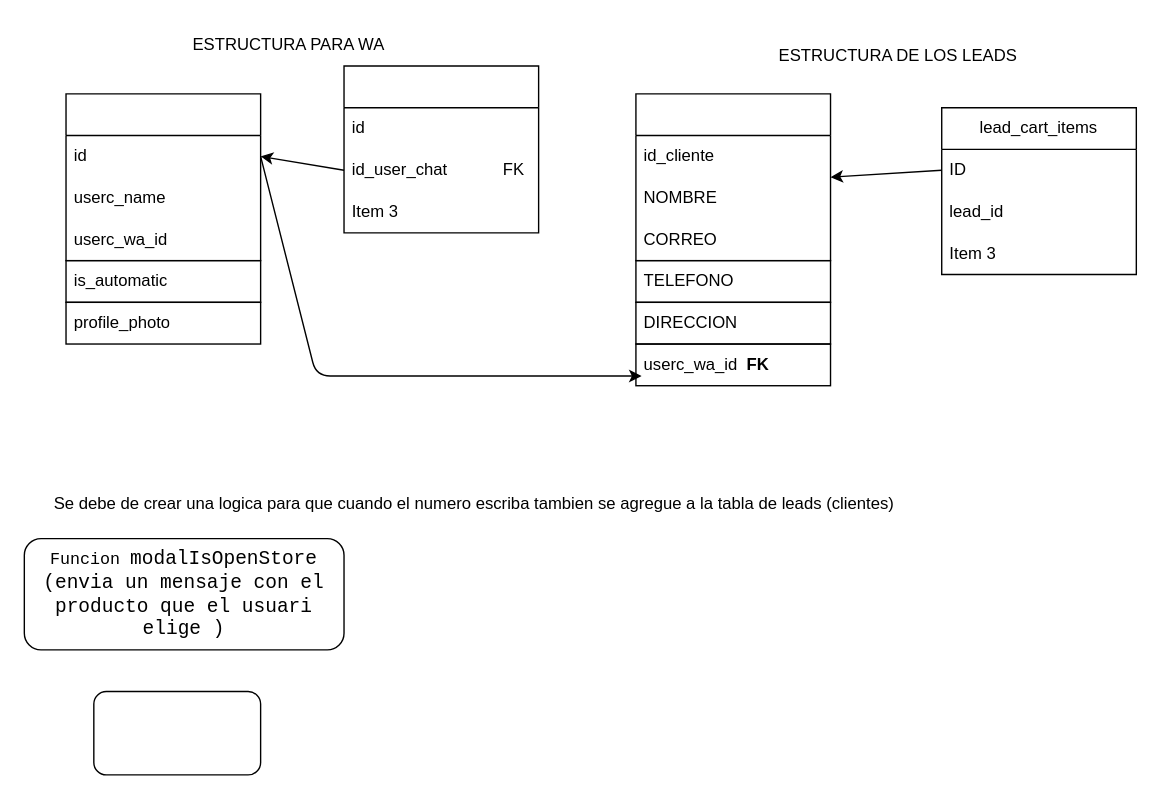
Image size: 1161x799. Some labels were removed from this diagram. Here are the shapes that lost their labels. From the top down, the box of each, then its label:
(343, 65, 539, 233): wa_messages
(65, 92, 261, 261): user_contacts
(635, 92, 831, 261): clientes
(92, 690, 261, 775): funcion Oportunidad
